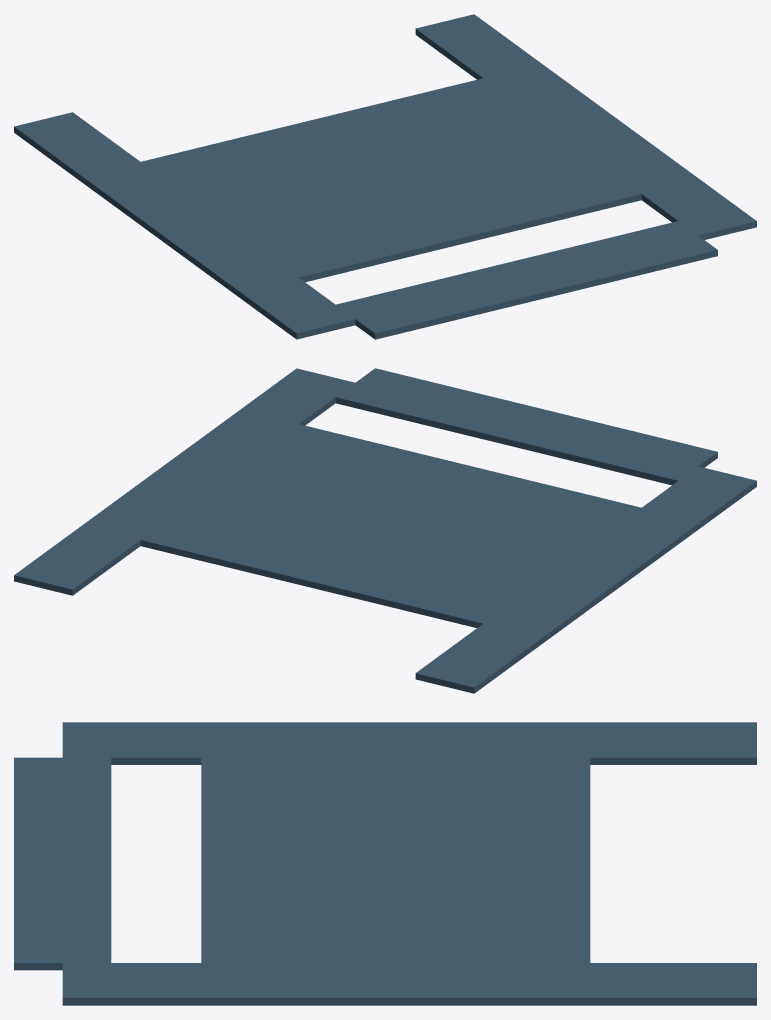
Rendered from v02-01-05-deck.glb.
The picture shows the model from 3 angles, top to bottom: view 1: azimuth 30°, elevation 25°; view 2: azimuth 150°, elevation 25°; view 3: azimuth 270°, elevation 25°; orthographic projection. The views are drawn at different scales.
Visible parts, largest first — view 1: v02-01-05-deck; view 2: v02-01-05-deck; view 3: v02-01-05-deck.
Boxes of the visible parts, <box> form: v02-01-05-deck: <box>14,14,756,339</box>; v02-01-05-deck: <box>14,368,756,693</box>; v02-01-05-deck: <box>14,722,756,1005</box>.
Bounding box in the file's own units: 47 × 0.6 × 53.5.
